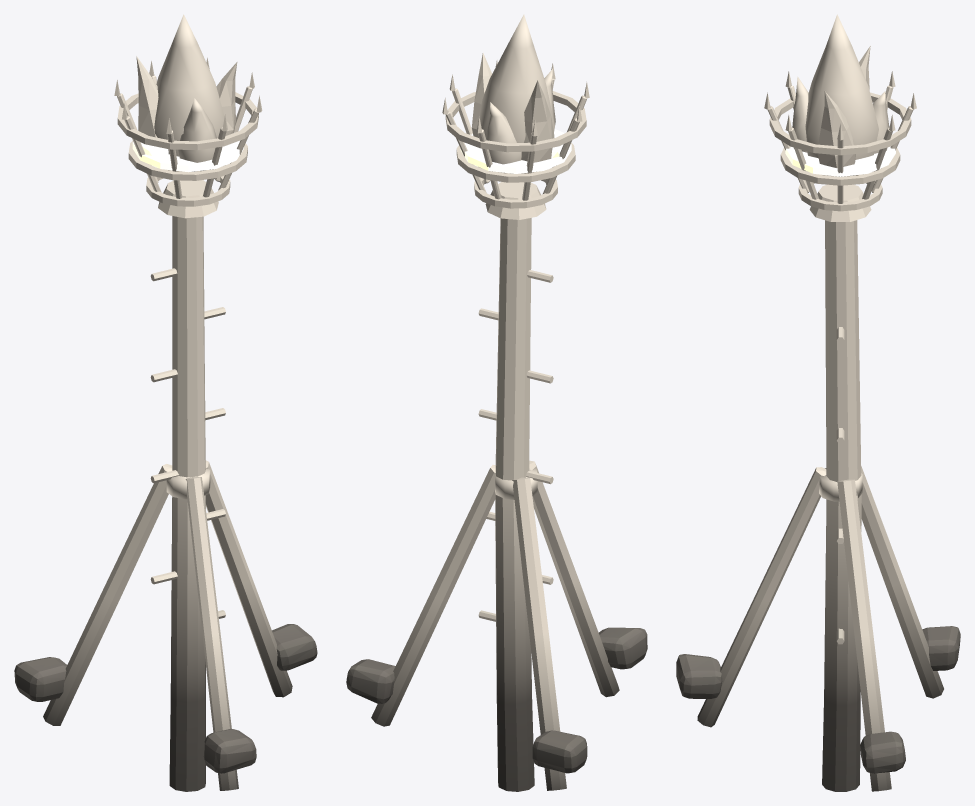
Rendered from SM_VK_Prop_Beacon.fbx.
The picture shows the model from 3 angles, left to right: view 1: azimuth 30°, elevation 25°; view 2: azimuth 150°, elevation 25°; view 3: azimuth 270°, elevation 25°; orthographic projection.
Visible parts, largest first — view 1: SM_VK_Prop_Beacon.001; view 2: SM_VK_Prop_Beacon.001; view 3: SM_VK_Prop_Beacon.001.
Boxes of the visible parts, left/top/right/bottom form: SM_VK_Prop_Beacon.001: left=14, top=14, right=317, bottom=791; SM_VK_Prop_Beacon.001: left=346, top=14, right=647, bottom=791; SM_VK_Prop_Beacon.001: left=676, top=14, right=960, bottom=791.
Size of the model in its own units: 2.7 by 7.65 by 2.57.
